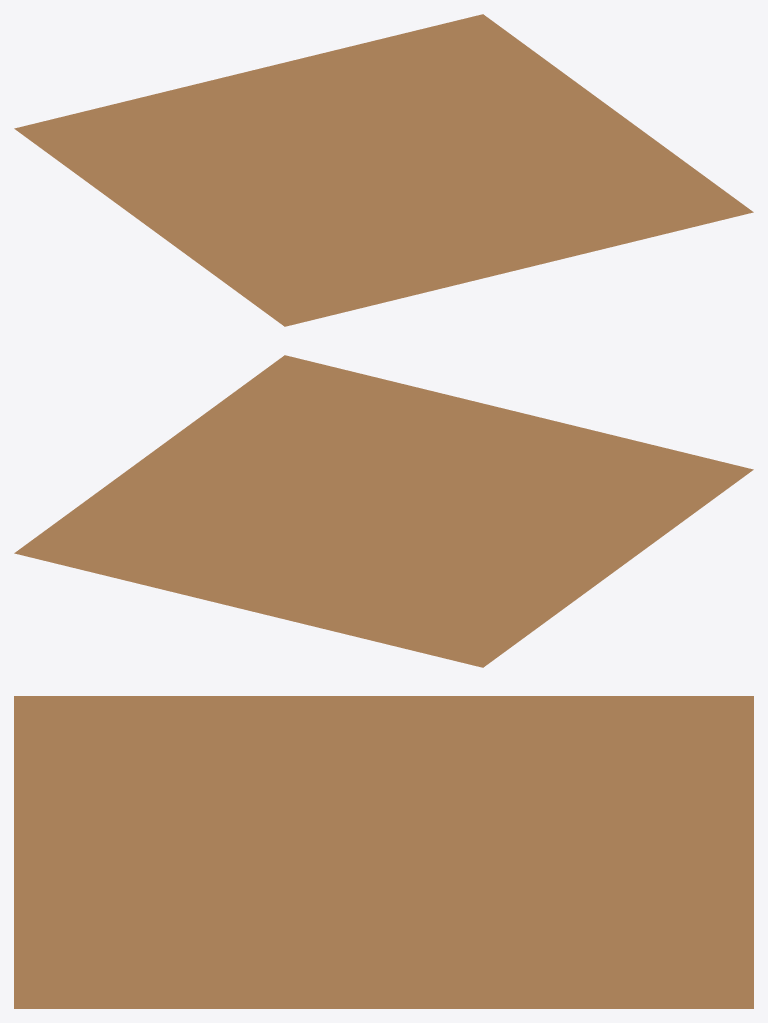
File: environmentproject_floor_b.fbx
3 renders of one model, top to bottom at view 1: azimuth 30°, elevation 25°; view 2: azimuth 150°, elevation 25°; view 3: azimuth 270°, elevation 25°, orthographic. The views are drawn at different scales.
Parts seen in each view (by area): view 1: floor_b_GEO_01; view 2: floor_b_GEO_01; view 3: floor_b_GEO_01.
Boxes of the visible parts, left/top/right/bottom form: floor_b_GEO_01: left=14, top=14, right=753, bottom=326; floor_b_GEO_01: left=14, top=355, right=753, bottom=667; floor_b_GEO_01: left=14, top=696, right=753, bottom=1008.
Size of the model in its own units: 200 by 0 by 200.
